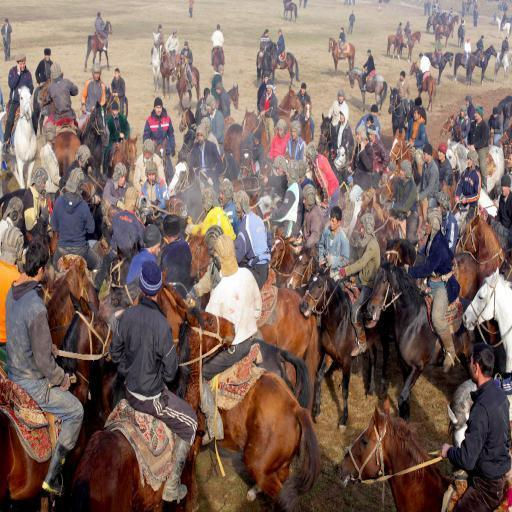horse: (0, 86, 512, 512), (314, 269, 378, 428), (346, 64, 387, 112), (171, 54, 202, 115), (262, 42, 299, 90), (407, 58, 437, 112), (158, 38, 184, 98), (86, 17, 114, 68), (328, 34, 358, 78), (450, 47, 486, 83), (476, 40, 498, 82), (425, 50, 453, 82), (214, 80, 240, 110), (394, 31, 420, 61), (149, 32, 162, 90), (494, 49, 512, 82), (434, 16, 454, 44), (255, 47, 271, 79), (494, 14, 512, 38), (212, 46, 226, 75), (282, 0, 298, 22), (386, 31, 399, 56), (424, 14, 440, 32)
